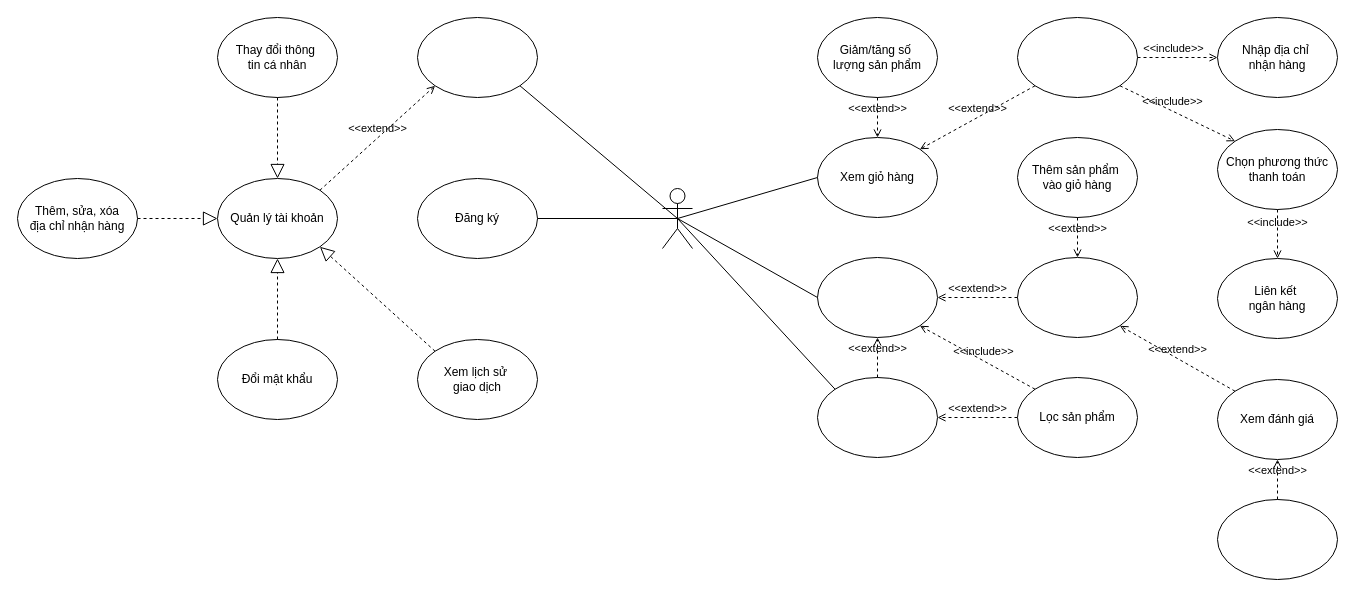
This 1355x597 diagram has some shape labels left out. The centre of each missing label's shape, as x and y in pixels:
Người dùng: (x=677, y=218)
Thanh toán giỏ hàng: (x=1077, y=57)
Tìm kiếm sản phẩm: (x=877, y=417)
Xem chi tiết sản phẩm: (x=1077, y=297)
Xem danh sách sản phẩm: (x=877, y=297)
Đăng nhập: (x=477, y=57)
Để lại đánh giá: (x=1277, y=539)
